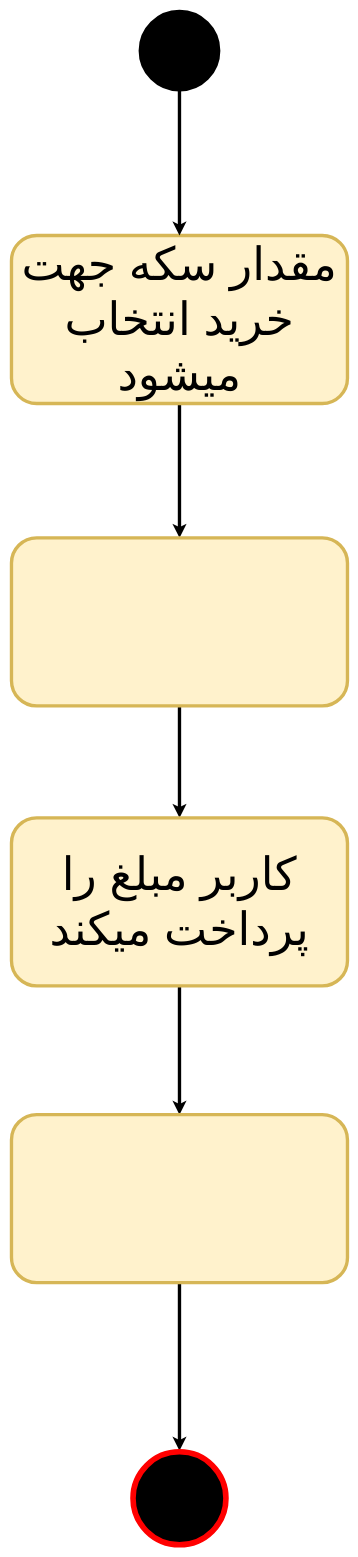
This 358x1557 diagram has some shape labels left out. The shapes that lost their labels are listed below. From the top down, each one's centre as x and y in pixels, then its label:
[179,621]: صفحه پرداخت باز میشود
[179,1198]: تعداد سکه ها افزایش میابد
